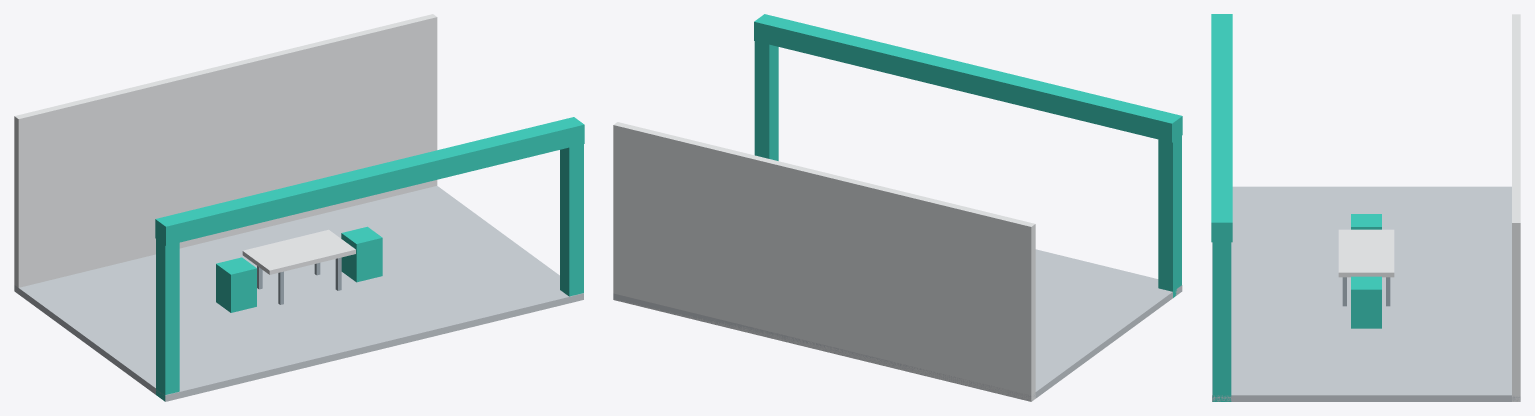
3 views of the same model, side by side, from view 1: azimuth 30°, elevation 25°; view 2: azimuth 150°, elevation 25°; view 3: azimuth 270°, elevation 25° (orthographic). The views are drawn at different scales.
Parts seen in each view (by area): view 1: Exhibition Booth Concept; view 2: Exhibition Booth Concept; view 3: Exhibition Booth Concept.
Boxes of the visible parts, x1,y1,x2,y2 form: Exhibition Booth Concept: [14, 14, 584, 401]; Exhibition Booth Concept: [613, 14, 1182, 401]; Exhibition Booth Concept: [1211, 14, 1520, 401].
Bounding box in the file's own units: 8 × 3.2 × 5.02.
